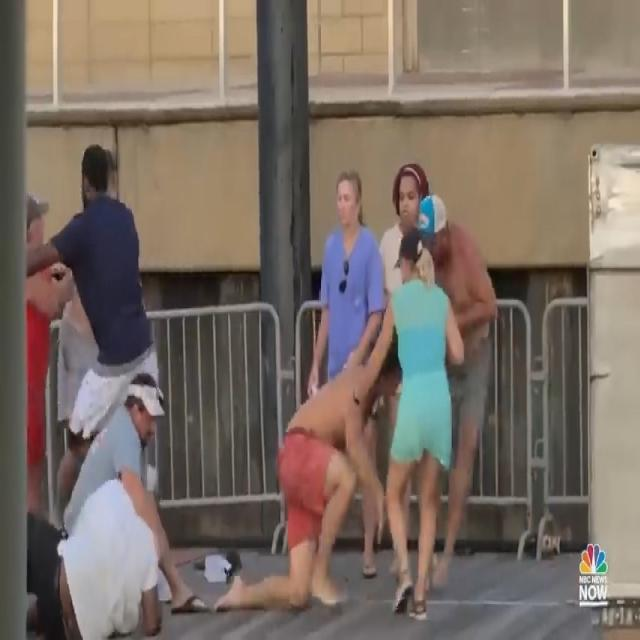fight: (22, 128, 195, 640)
non-fight: (216, 141, 504, 632)
